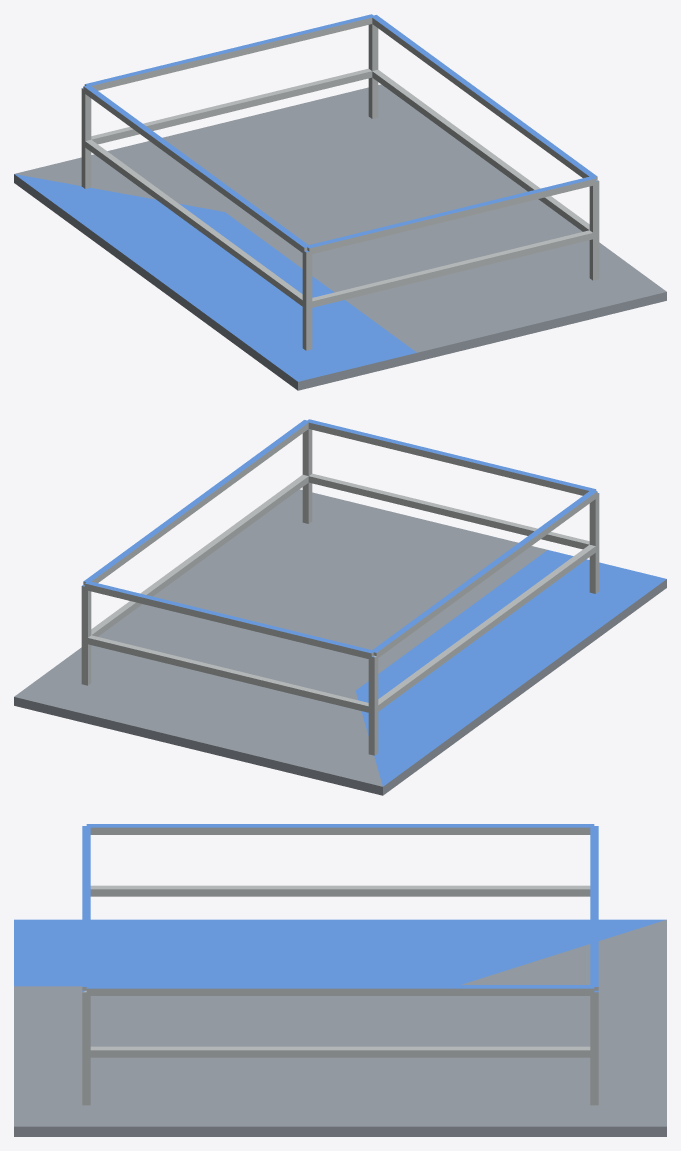
File: veyran_refinery_scaffolding.glb
3 views of the same model, one above another, from view 1: azimuth 30°, elevation 25°; view 2: azimuth 150°, elevation 25°; view 3: azimuth 270°, elevation 25° (orthographic). The views are drawn at different scales.
Parts seen in each view (by area): view 1: hull; view 2: hull; view 3: hull.
Part boxes in pixels (<box>): hull: <box>14,14,666,390</box>; hull: <box>14,419,666,795</box>; hull: <box>14,824,666,1136</box>.
Bounding box in the file's own units: 10.8 × 3.09 × 14.4.
